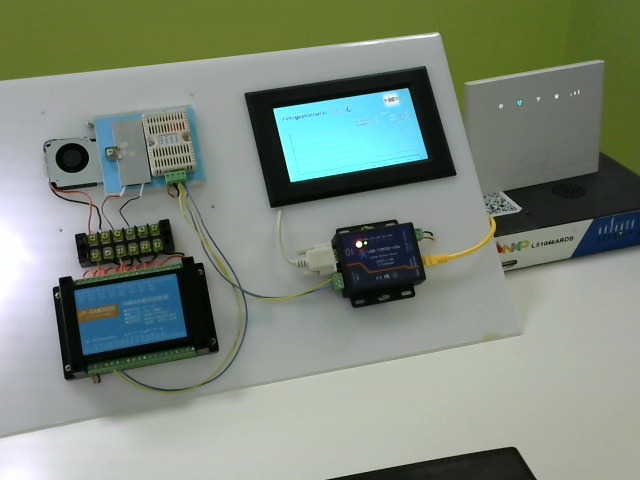fan: (36, 135, 102, 190)
heater: (103, 112, 147, 197)
modbus bridge: (318, 215, 436, 313)
relay: (49, 264, 229, 381)
termperature: (143, 110, 200, 189)
